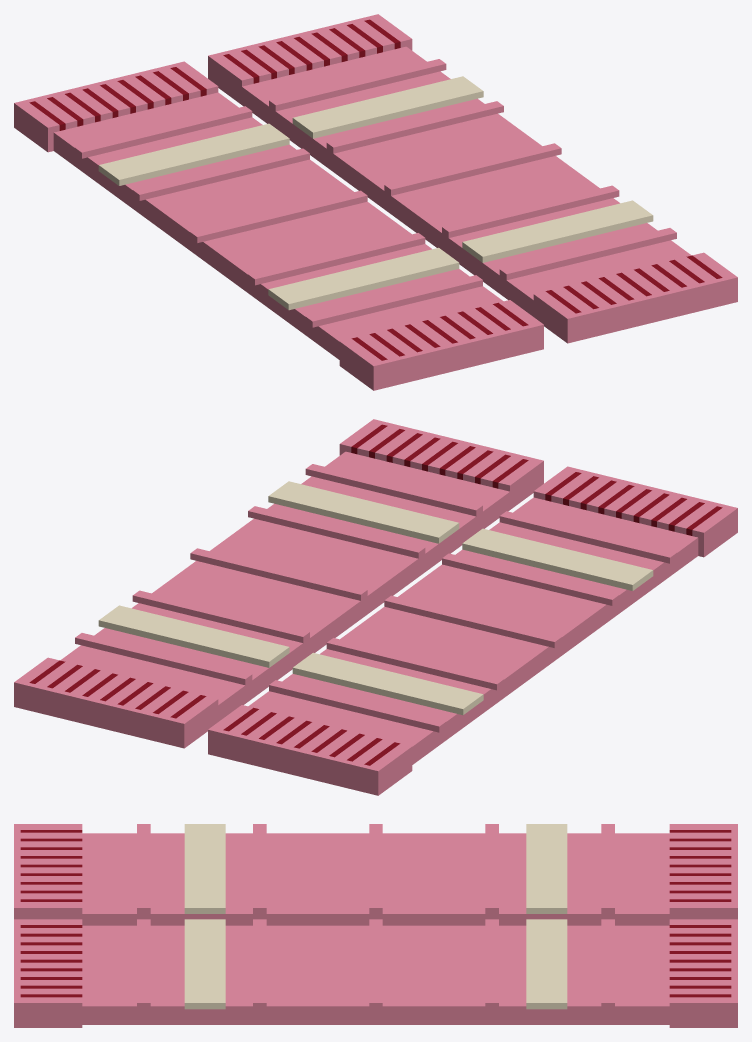
Rendered from leg_warmers.glb.
The picture shows the model from 3 angles, top to bottom: view 1: azimuth 30°, elevation 25°; view 2: azimuth 150°, elevation 25°; view 3: azimuth 270°, elevation 25°; orthographic projection.
Visible parts, largest first — view 1: leg_warmers:compound; view 2: leg_warmers:compound; view 3: leg_warmers:compound.
Boxes of the visible parts, x1=… form: leg_warmers:compound: x1=14, y1=14, x2=737, y2=390; leg_warmers:compound: x1=14, y1=419, x2=737, y2=795; leg_warmers:compound: x1=14, y1=824, x2=737, y2=1027.
Bounding box in the file's own units: 0.248 × 0.016 × 0.424.
